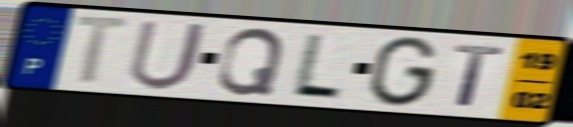G: (364, 34, 442, 110)
L: (287, 31, 345, 102)
Q: (214, 25, 287, 97)
T: (70, 12, 138, 88), (450, 42, 508, 110)
U: (124, 18, 212, 93)
